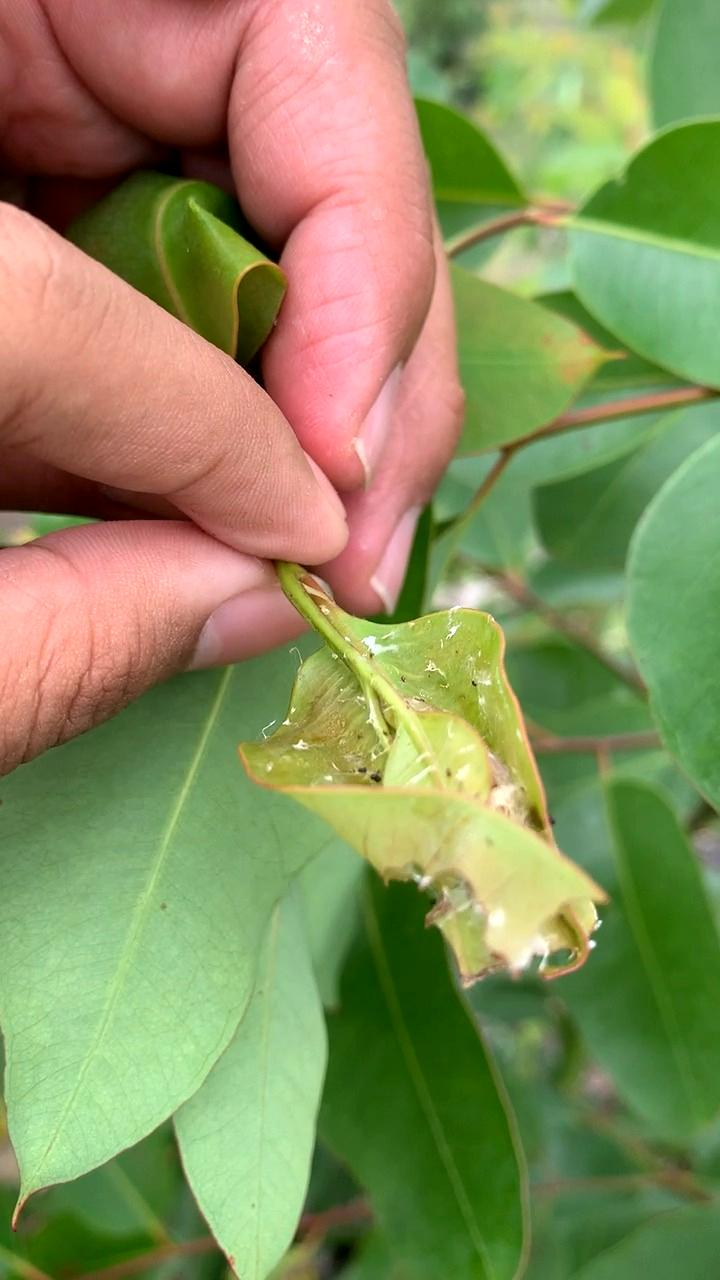Leaf Roller - Leaf: (255, 615, 617, 993)
